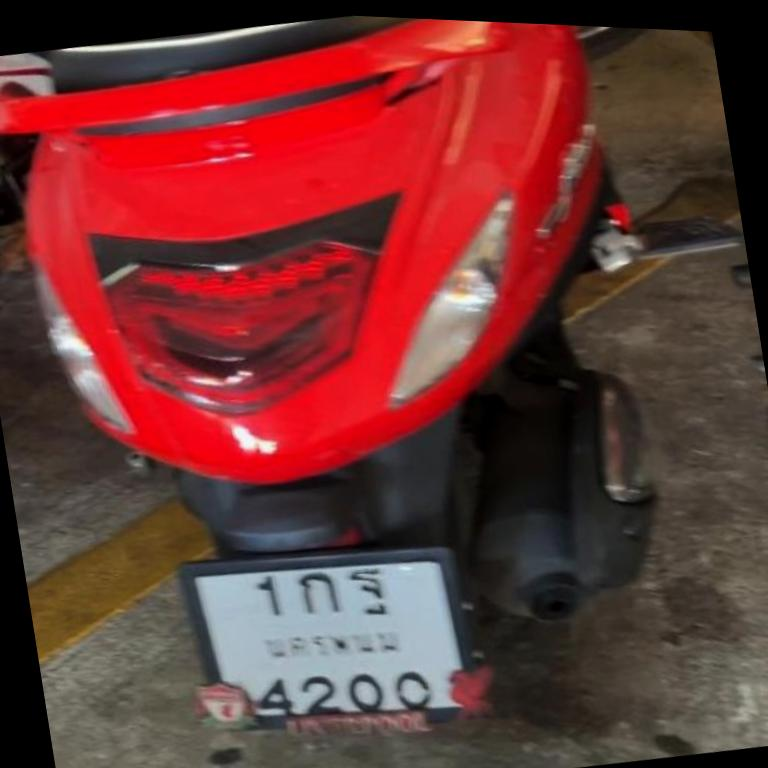license plate: (180, 548, 473, 730)
